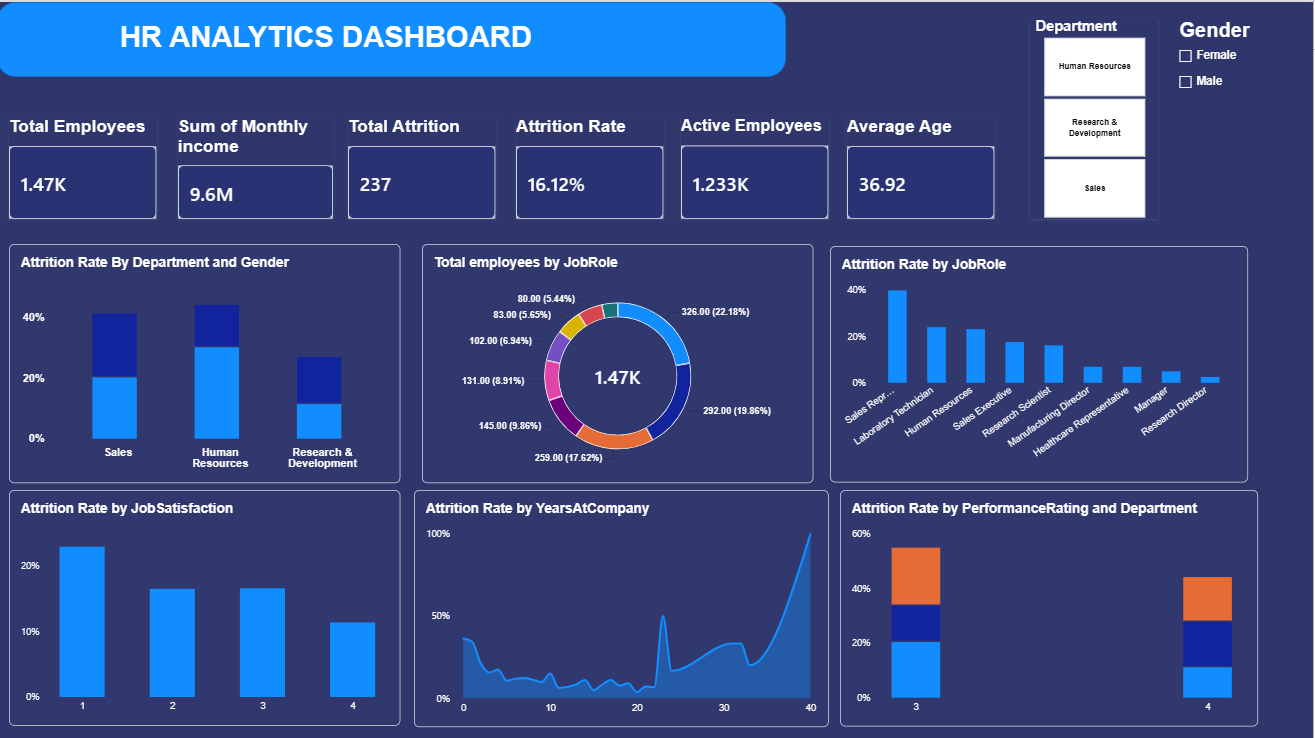

This screenshot's page, from the dashboard's own definition file:
{"tool":"powerbi","page":{"name":"Page 1","canvas":[1920,1080],"ordinal":0},"visuals":[{"type":"shape","box":[0,0,1151.1,109.4],"z":0},{"type":"textbox","box":[179.5,26.3,1060.7,106.5],"z":1},{"type":"slicer","fields":{"Values":["HR_ANALYTICS.Department"]},"box":[1507.7,23.6,187,293],"z":2},{"type":"slicer","fields":{"Values":["HR_ANALYTICS.Gender"]},"box":[1717.2,23.3,137.1,204.3],"z":3},{"type":"cardVisual","title":"Total Employees","fields":{"Data":["HR_ANALYTICS.Total employees"]},"box":[17.7,166.4,215.9,150.3],"z":4},{"type":"cardVisual","title":"Average Age","fields":{"Data":["HR_ANALYTICS.average age"]},"box":[1239.8,166.4,215.9,150.3],"z":5},{"type":"cardVisual","title":"Active Employees","fields":{"Data":["HR_ANALYTICS.Active employee"]},"box":[998.3,166.4,215.9,150.3],"z":6},{"type":"cardVisual","title":"Attrition Rate","fields":{"Data":["HR_ANALYTICS.Attrition Rate"]},"box":[756.8,166.4,215.9,150.3],"z":7},{"type":"cardVisual","title":"Total Attrition","fields":{"Data":["HR_ANALYTICS.Total Attrition"]},"box":[512.4,166.4,215.9,150.3],"z":8},{"type":"cardVisual","title":"Sum of Monthly income","fields":{"Data":["Sum(HR_ANALYTICS.MonthlyIncome)"]},"box":[263.6,166.4,226.7,150.2],"z":9},{"type":"columnChart","title":"Attrition Rate By Department and Gender","fields":{"Category":["HR_ANALYTICS.Department"],"Series":["HR_ANALYTICS.Gender"],"Y":["HR_ANALYTICS.Attrition Rate"]},"box":[17.7,353.4,571.3,349],"z":10},{"type":"donutChart","fields":{"Category":["HR_ANALYTICS.JobRole"],"Y":["HR_ANALYTICS.Total employees"]},"box":[619.9,353.4,571.3,349],"z":11},{"type":"columnChart","fields":{"Category":["HR_ANALYTICS.JobRole"],"Y":["HR_ANALYTICS.Attrition Rate"]},"box":[1214.7,356.3,609.6,344.5],"z":12},{"type":"clusteredColumnChart","fields":{"Category":["HR_ANALYTICS.JobSatisfaction"],"Y":["HR_ANALYTICS.Attrition Rate"]},"box":[17.7,712.6,571,344],"z":13},{"type":"stackedAreaChart","fields":{"Category":["HR_ANALYTICS.YearsAtCompany"],"Y":["HR_ANALYTICS.Attrition Rate"]},"box":[608.4,712,605.5,345.8],"z":14},{"type":"columnChart","fields":{"Category":["HR_ANALYTICS.PerformanceRating"],"Series":["HR_ANALYTICS.Department"],"Y":["HR_ANALYTICS.Attrition Rate"]},"box":[1229.4,712.6,610,345],"z":15}]}

Visuals, with their boxes in screenshot pixels (x1, y1, x2, y2), scaled from the page's 1920x1080 canvas onto the 1315x738 screenshot:
shape: 0,0,788,75
textbox: 123,18,849,91
slicer - HR_ANALYTICS.Department: 1033,16,1161,216
slicer - HR_ANALYTICS.Gender: 1176,16,1270,156
"Total Employees" cardVisual: 12,114,160,216
"Average Age" cardVisual: 849,114,997,216
"Active Employees" cardVisual: 684,114,832,216
"Attrition Rate" cardVisual: 518,114,666,216
"Total Attrition" cardVisual: 351,114,499,216
"Sum of Monthly income" cardVisual: 181,114,336,216
"Attrition Rate By Department and Gender" columnChart: 12,241,403,480
donutChart - HR_ANALYTICS.JobRole x HR_ANALYTICS.Total employees: 425,241,816,480
columnChart - HR_ANALYTICS.JobRole x HR_ANALYTICS.Attrition Rate: 832,243,1249,479
clusteredColumnChart - HR_ANALYTICS.JobSatisfaction x HR_ANALYTICS.Attrition Rate: 12,487,403,722
stackedAreaChart - HR_ANALYTICS.YearsAtCompany x HR_ANALYTICS.Attrition Rate: 417,487,831,723
columnChart - HR_ANALYTICS.PerformanceRating x HR_ANALYTICS.Department: 842,487,1260,723
